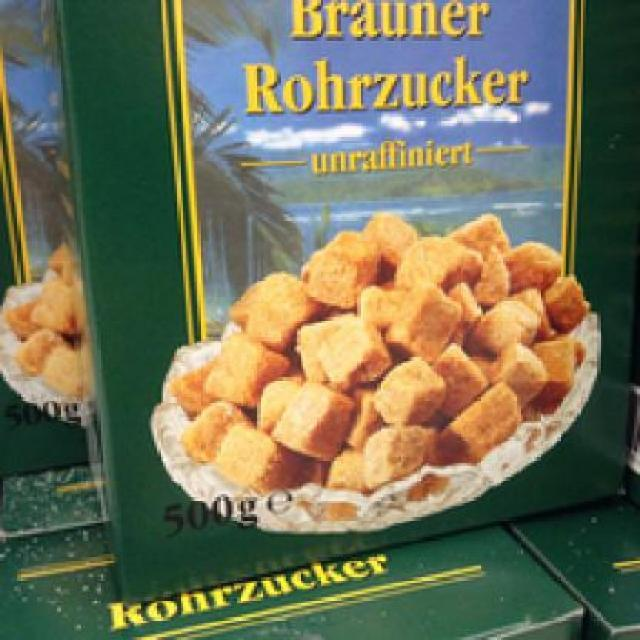Sugar: (49, 0, 632, 603)
